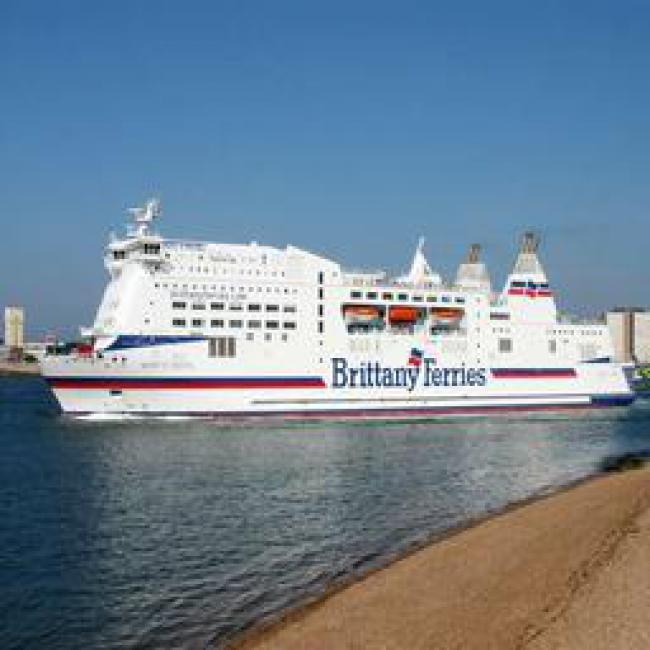Ship: (9, 207, 634, 428)
